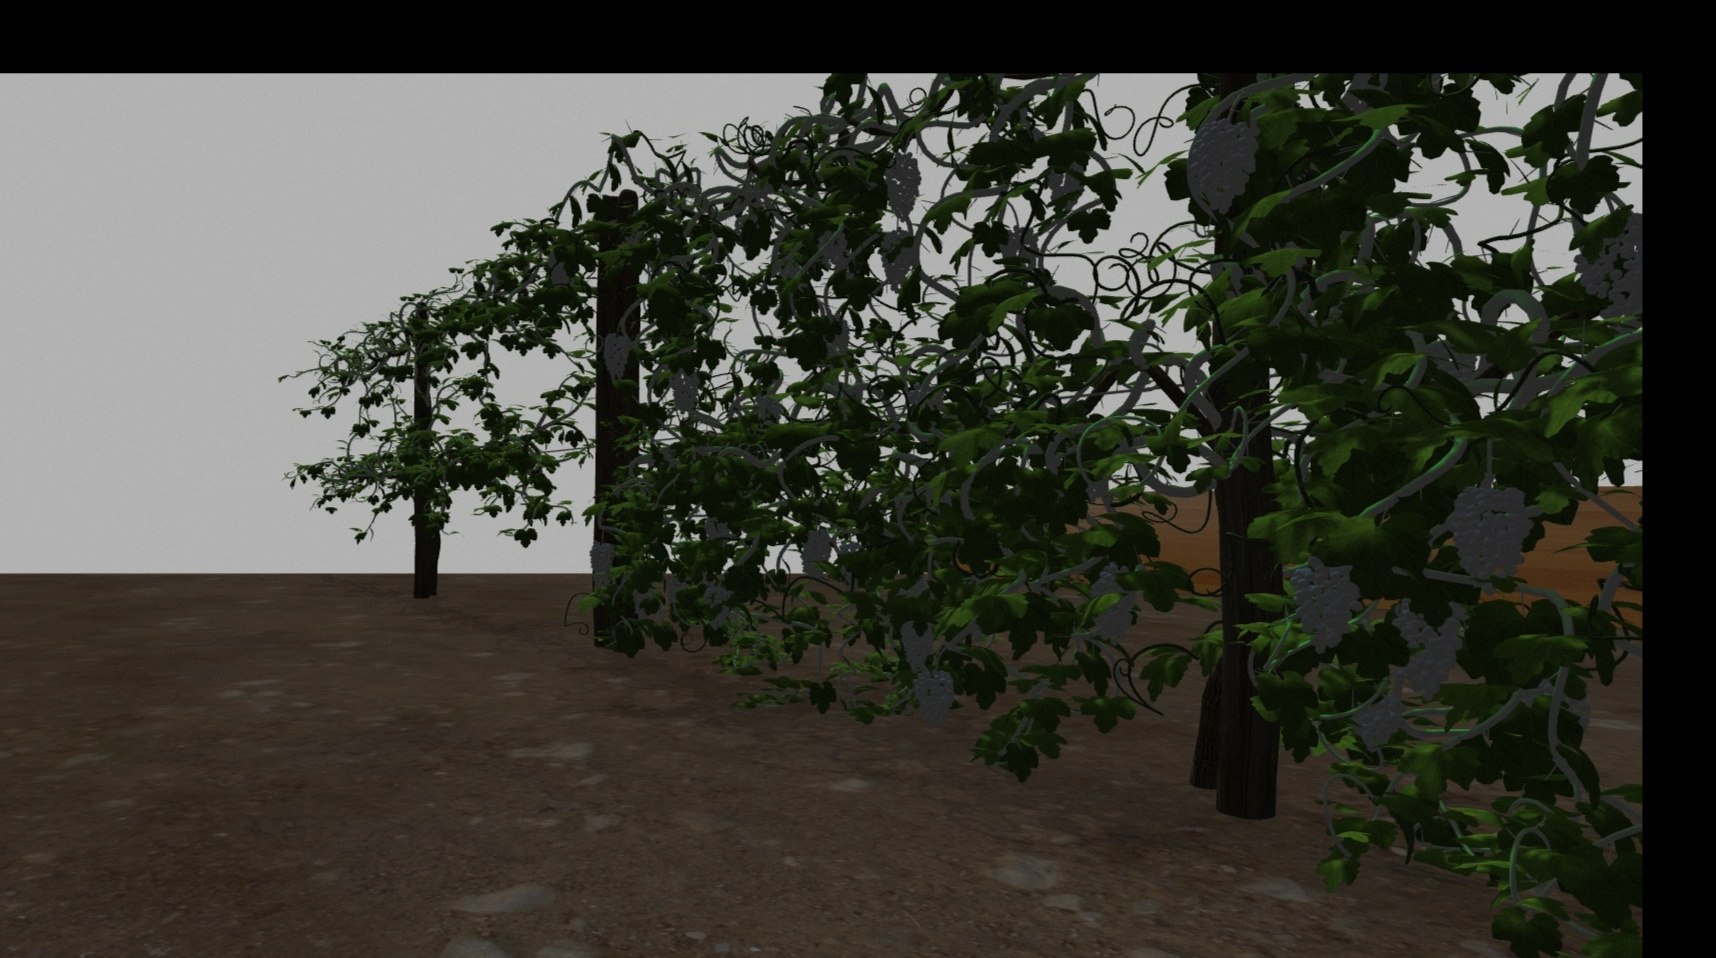grape: (1443, 478, 1532, 584), (1573, 203, 1641, 329), (1183, 115, 1260, 222), (1397, 597, 1468, 698), (1289, 560, 1362, 655), (1093, 563, 1137, 645), (1349, 696, 1404, 753), (883, 152, 922, 224), (911, 670, 955, 731), (879, 227, 916, 295), (796, 528, 833, 582), (900, 620, 933, 670), (668, 366, 701, 415), (602, 333, 631, 383), (701, 587, 732, 630), (587, 542, 615, 587), (816, 231, 851, 265), (544, 253, 570, 288)
